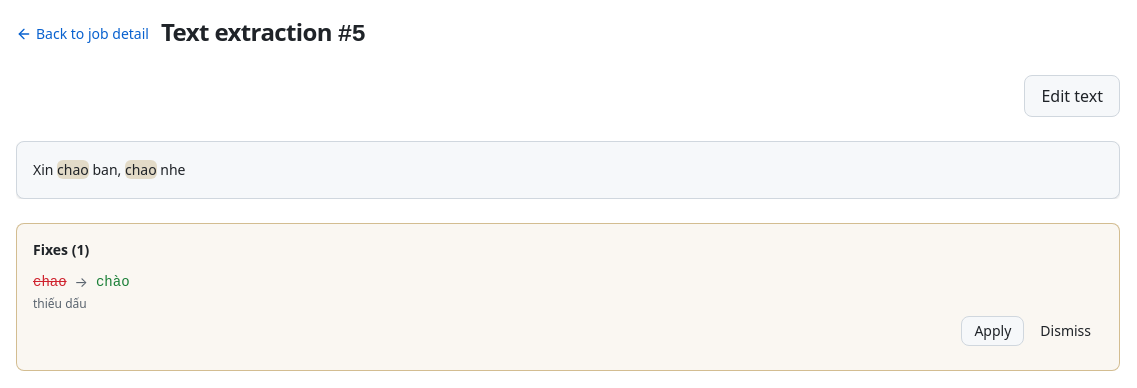
Test: click outside closes the popover (a11y)
What coordinates should you click on to do the following:
click the 1st button "chao"
I would click on:
 (73, 170)
Its box is [57, 158, 89, 182].
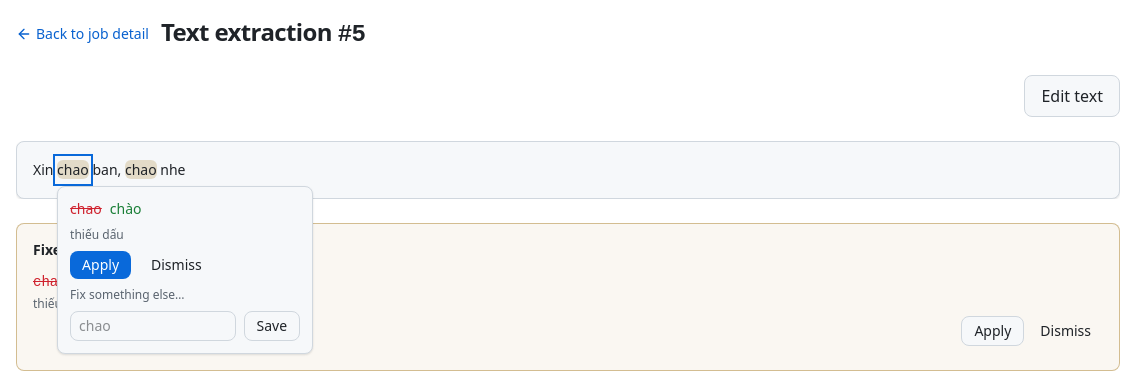
Check: the element with test id "suggestion-popover-11" is shown, box [57, 186, 313, 354]
What coordinates should you click on to do the following:
click the heading "Text extraction #5"
I would click on:
 (263, 34)
Its box is [161, 16, 365, 51].
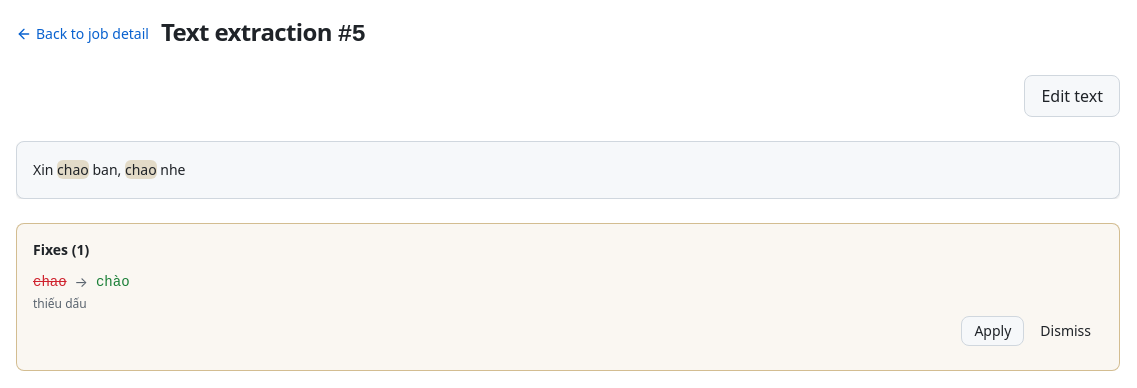
Check: the element with test id "suggestion-popover-11" is gone
